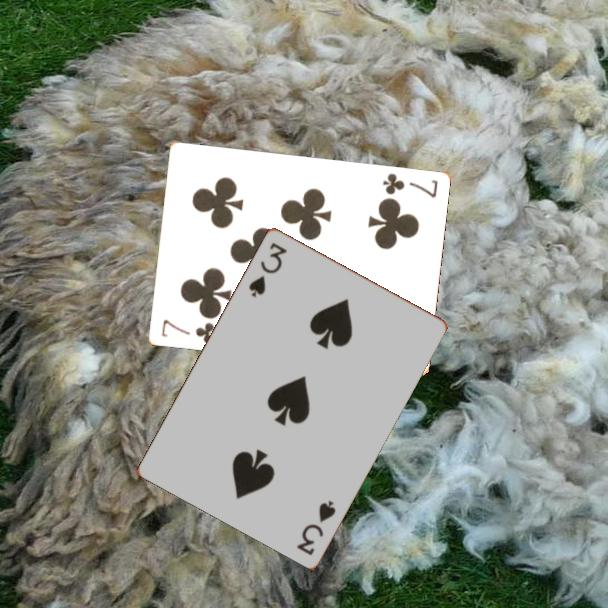c07: (158, 316, 219, 347), (379, 170, 440, 201)
s03: (293, 497, 339, 558), (245, 238, 290, 300)
